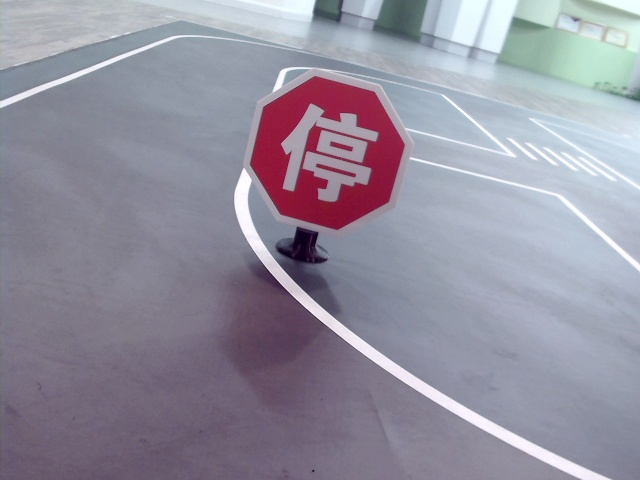stop: (281, 100, 376, 202)
